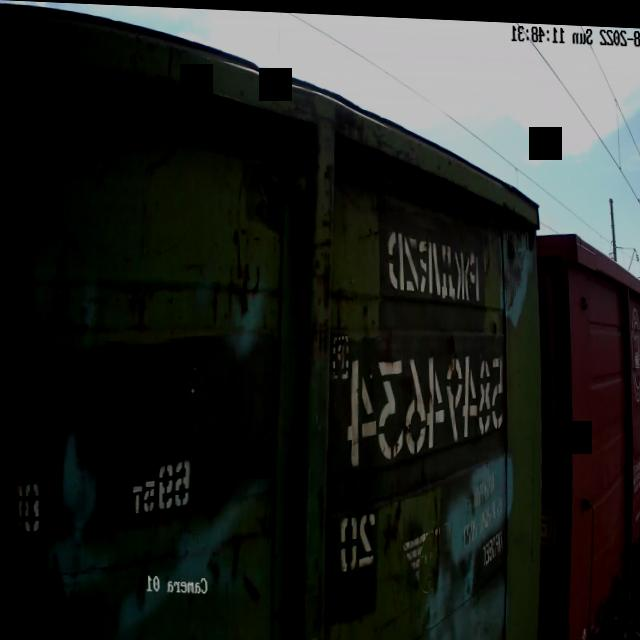gondola: (0, 0, 553, 640), (523, 218, 640, 640)
